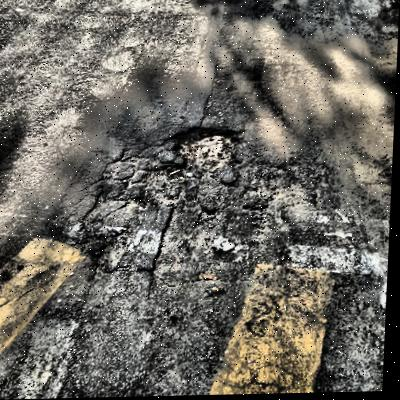pothole: (164, 125, 249, 177), (139, 162, 195, 209)
